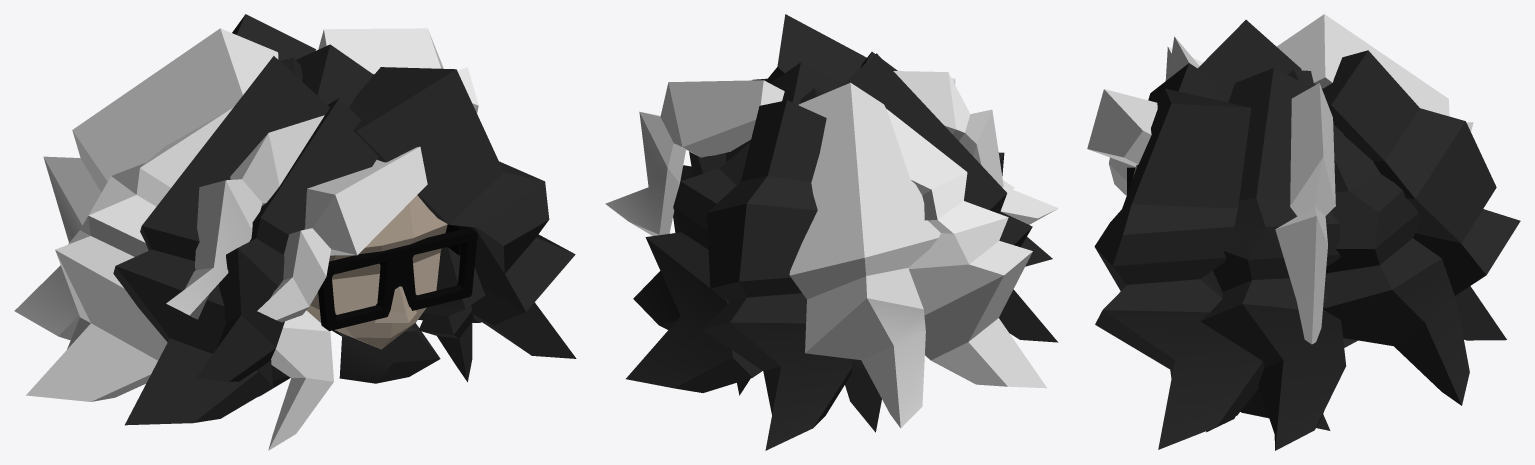
File: GRIMECRAFT_head.fbx
3 renders of one model, left to right at view 1: azimuth 30°, elevation 25°; view 2: azimuth 150°, elevation 25°; view 3: azimuth 270°, elevation 25°, orthographic. The views are drawn at different scales.
Parts seen in each view (by area): view 1: pCube19; view 2: pCube19; view 3: pCube19.
Boxes of the visible parts, x1,y1,x2,y2 form: pCube19: (14,14,576,450); pCube19: (605,14,1058,450); pCube19: (1087,14,1520,450).
Size of the model in its own units: 20.33 by 15.05 by 16.41.
